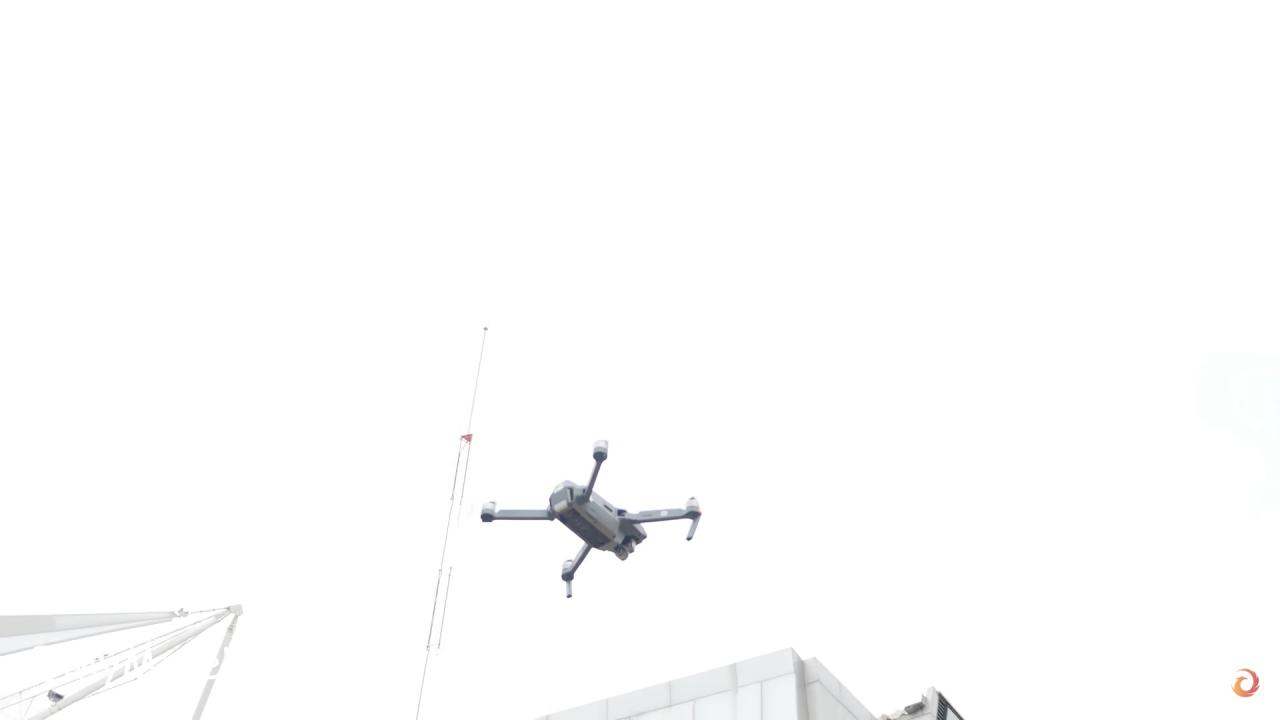Drone: (469, 427, 714, 610)
